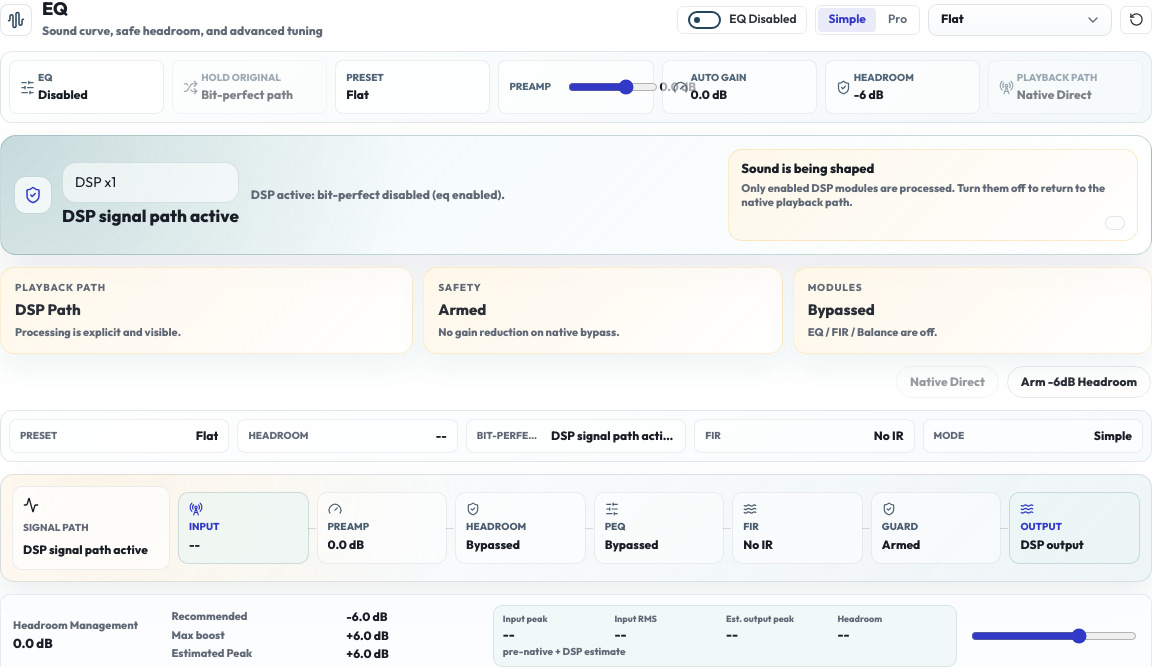
Scenario: EqPanel › keeps the full professional tools behind Pro mode
The width and height of the screenshot is (1152, 667).
Expected: the button "Store A" is not shown
Step 1. Click the button "Pro" → (897, 20), box left=878, top=8, right=917, bottom=32
(page scrolled)
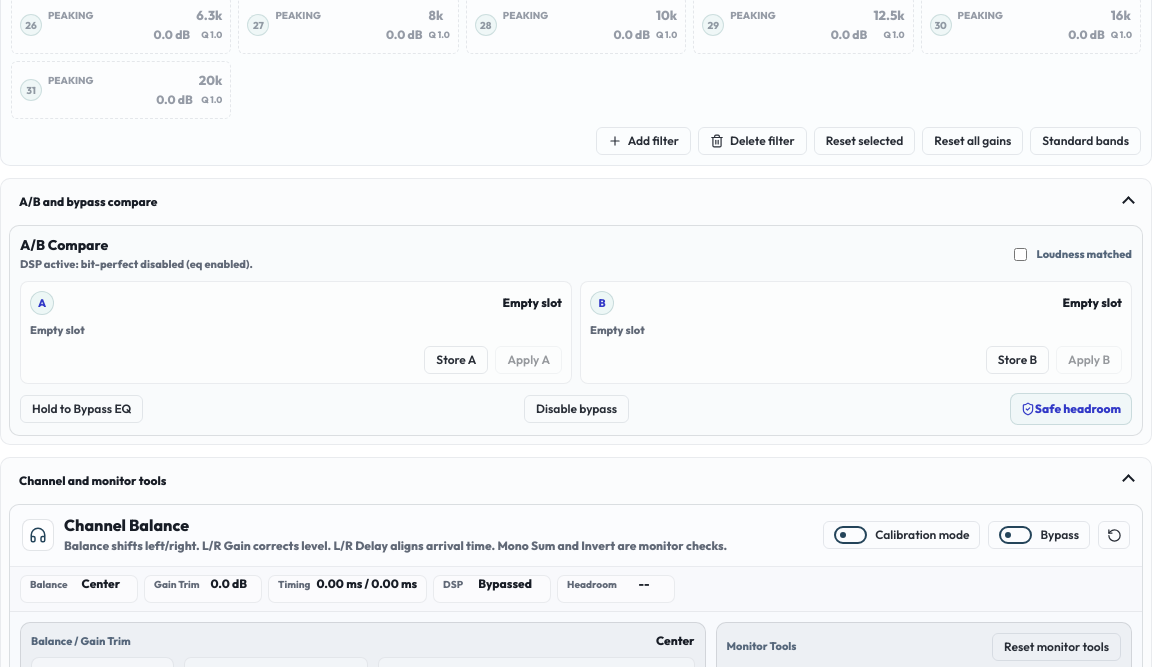
Result: the button "Store A" is shown at left=424, top=346, right=488, bottom=374
